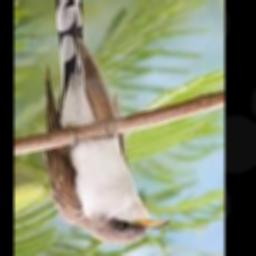Cuckoo: (44, 0, 170, 246)
